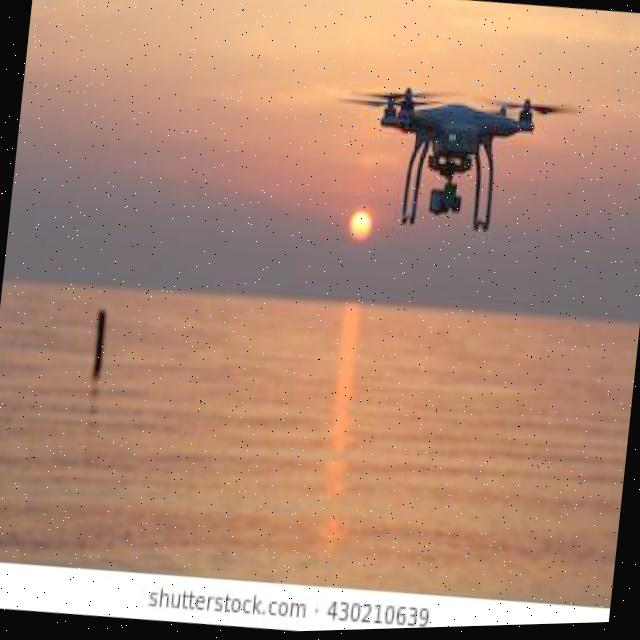drone: (315, 56, 589, 288)
